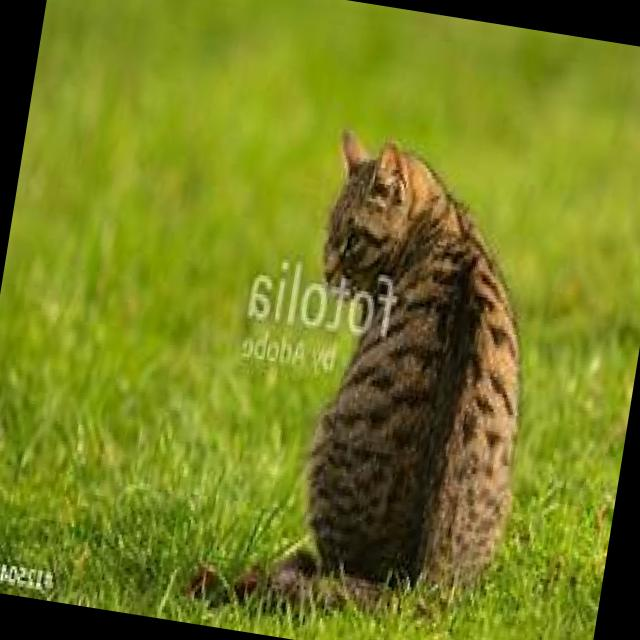animal: (188, 110, 567, 640)
